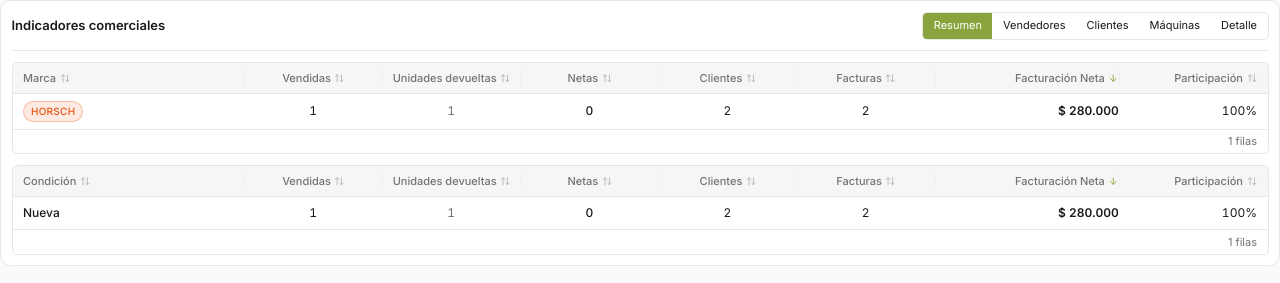
it: Ventas de Máquinas › separa ventas, notas de crédito y unidades netas
This screenshot has width=1280, height=283.
Expected: the text "Condición" is shown, [23,172,76,189]
Expected: the 1st text "Netas" is shown, [568,70,598,86]
Click the button "Vendedores".
click(1034, 26)  # box [992,12,1076,38]
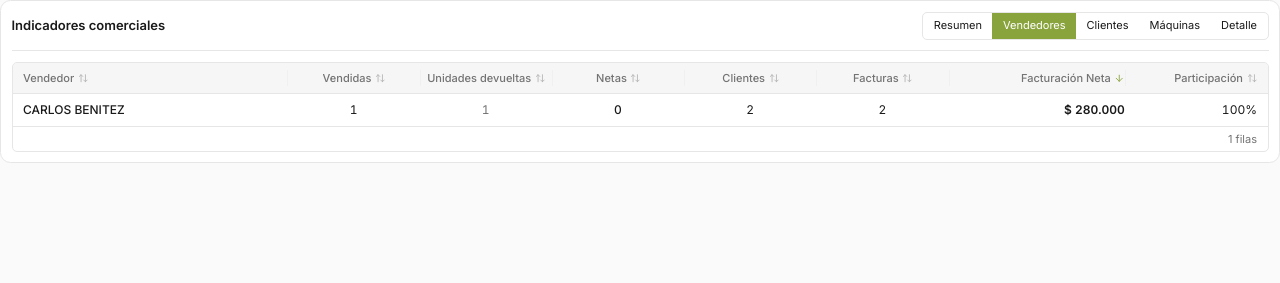
Now the text "CARLOS BENITEZ" is shown, box [23,102,125,117]
